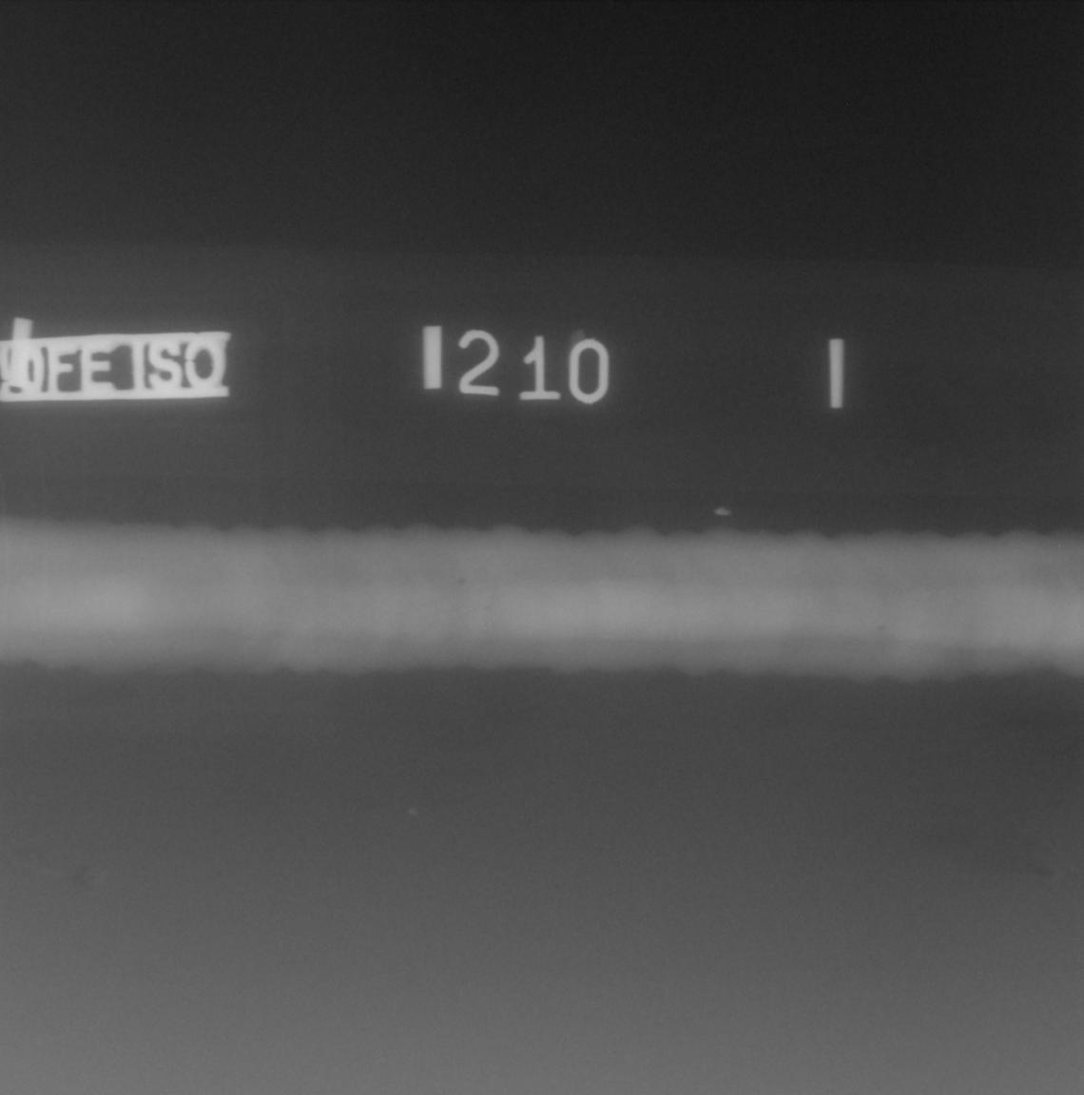Pore/Porosity: (276, 606, 286, 613), (458, 578, 465, 585), (878, 626, 886, 631), (486, 606, 492, 610)
